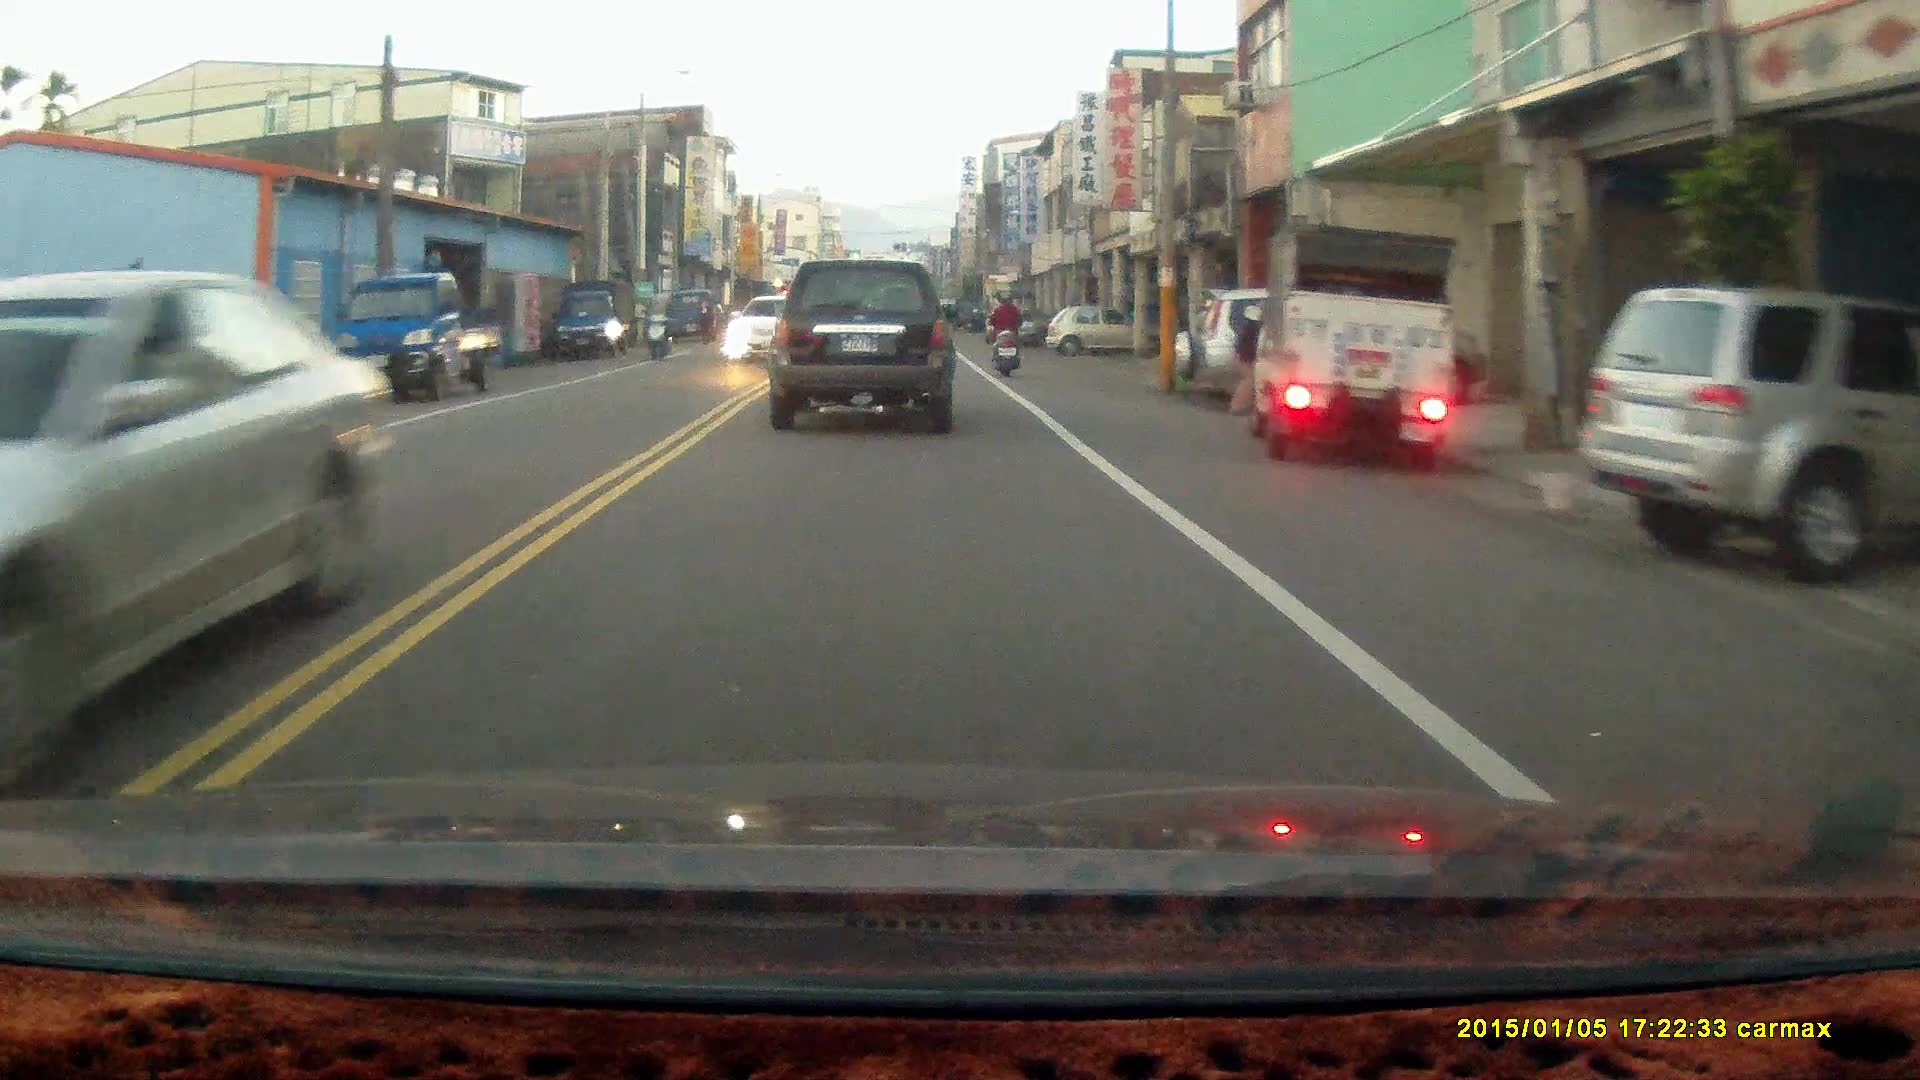pedestrian: (1227, 305, 1264, 414), (694, 296, 714, 346)
rider: (987, 283, 1024, 378), (642, 283, 675, 359)
vehicle: (1, 267, 399, 775), (1590, 283, 1920, 563), (1241, 222, 1463, 465), (1172, 277, 1495, 421), (767, 254, 959, 430), (329, 270, 504, 405), (551, 278, 641, 358), (1051, 305, 1131, 358)
